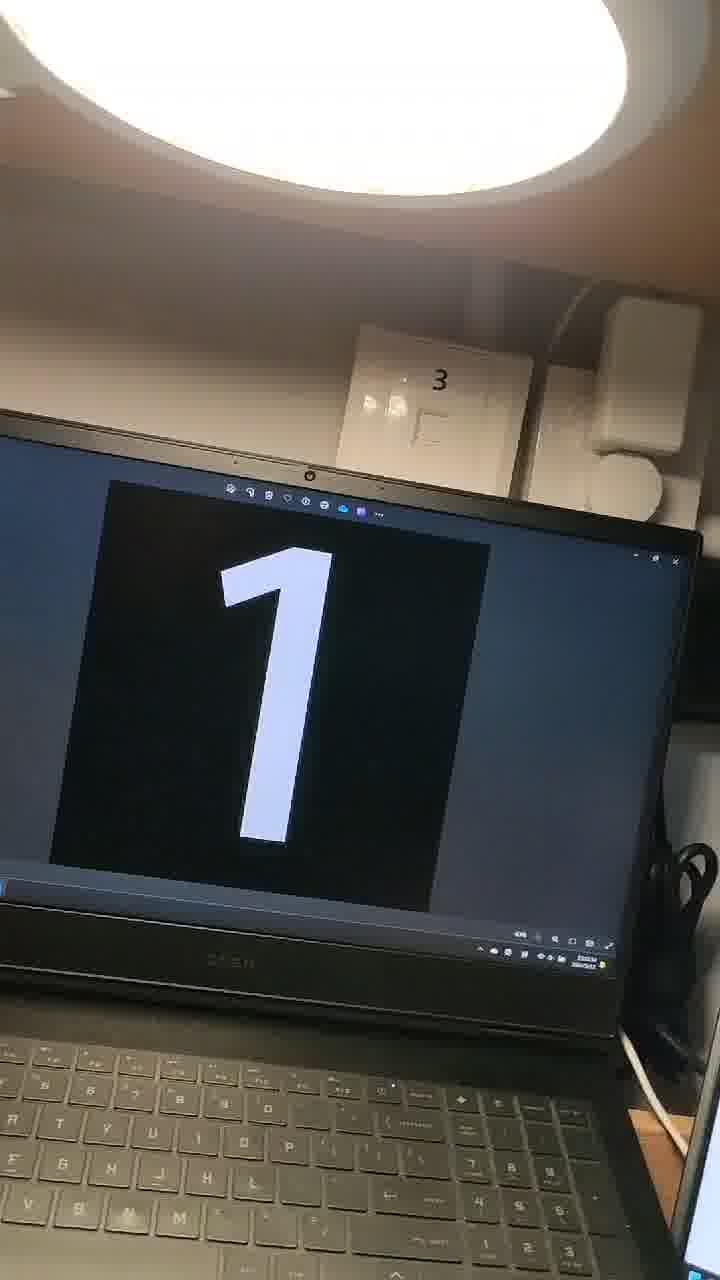one: (205, 512, 425, 862)
